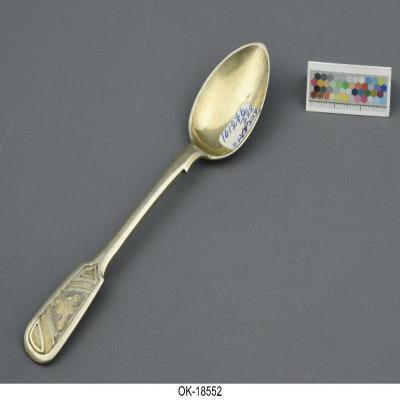dpi: (23, 43, 272, 366)
